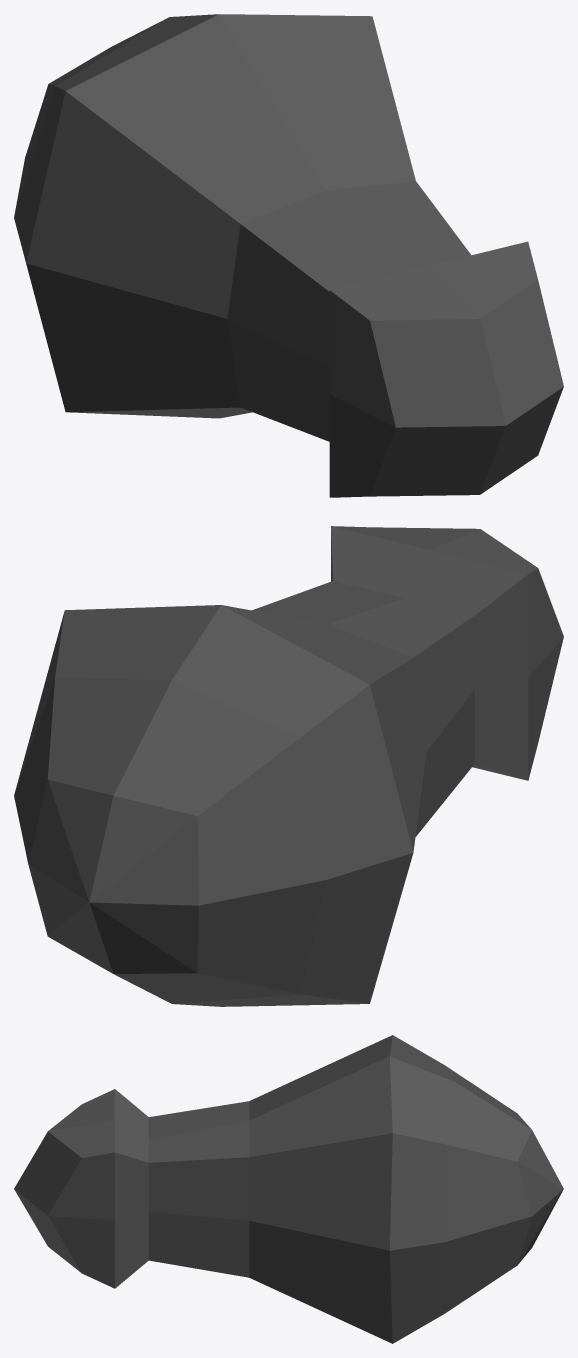
Rendered from Burnt Drumstick.fbx.
3 views of the same model, one above another, from view 1: azimuth 30°, elevation 25°; view 2: azimuth 150°, elevation 25°; view 3: azimuth 270°, elevation 25° (orthographic). The views are drawn at different scales.
Visible parts, largest first — view 1: Burnt Drumstick; view 2: Burnt Drumstick; view 3: Burnt Drumstick.
Part boxes in pixels (bbox=[...]): Burnt Drumstick: bbox=[14, 14, 563, 497]; Burnt Drumstick: bbox=[14, 526, 563, 1006]; Burnt Drumstick: bbox=[14, 1035, 563, 1343].
Bounding box in the file's own units: 7.76 × 7.76 × 14.59.
